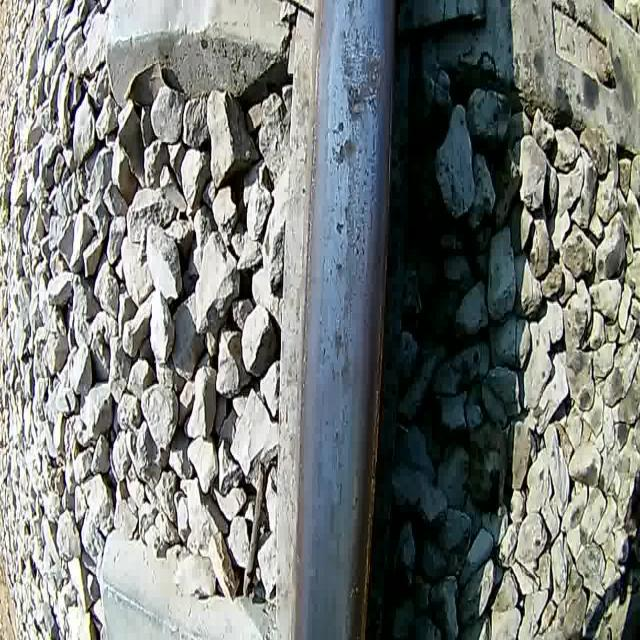Squats: (337, 46, 388, 125), (326, 135, 363, 172), (331, 321, 346, 361), (327, 115, 348, 140), (331, 216, 348, 240)
